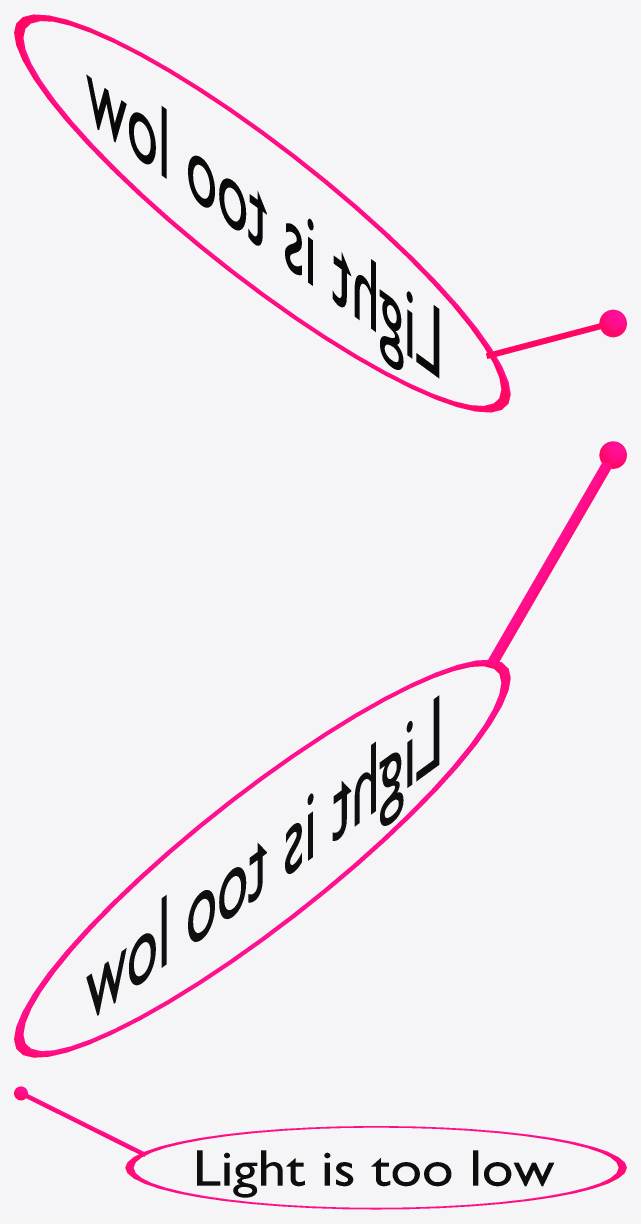
File: light.glb
3 views of the same model, one above another, from view 1: azimuth 30°, elevation 25°; view 2: azimuth 150°, elevation 25°; view 3: azimuth 270°, elevation 25° (orthographic). The views are drawn at different scales.
Parts seen in each view (by area): view 1: Torus, Text; view 2: Torus, Text; view 3: Text, Torus.
Boxes of the visible parts, x1,y1,x2,y2 form: Torus: (14, 14, 626, 412); Text: (86, 74, 439, 378); Torus: (14, 441, 626, 1057); Text: (86, 695, 439, 1015); Text: (197, 1150, 553, 1197); Torus: (14, 1086, 626, 1209).
Size of the model in its own units: 0.1943 by 1.87 by 8.5.
